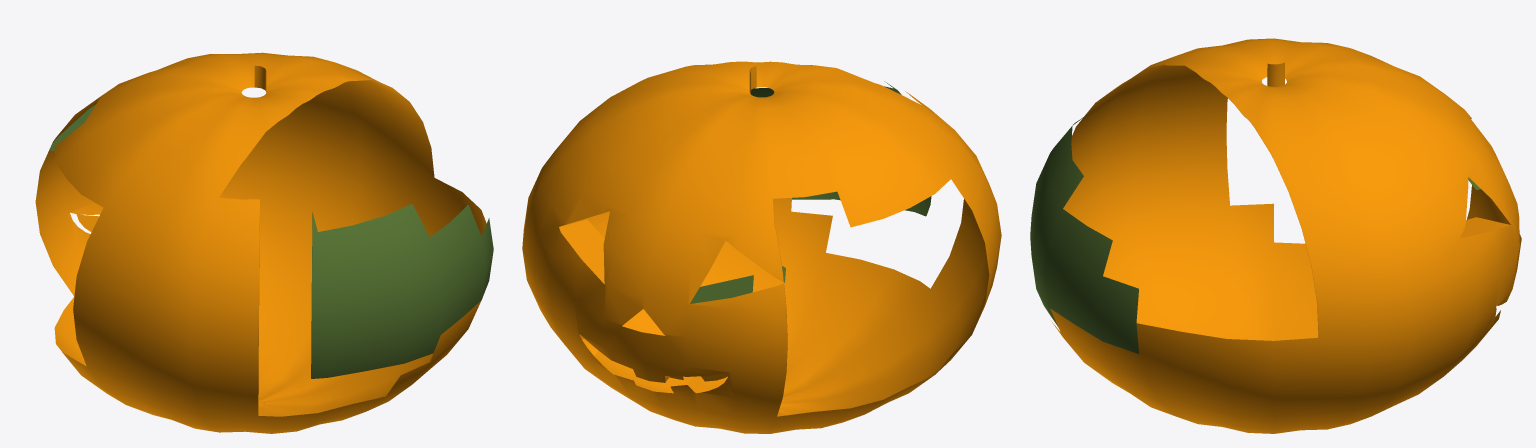
Rendered from Pumpkin_Halloween_Skin.fbx.
The picture shows the model from 3 angles, left to right: view 1: azimuth 30°, elevation 25°; view 2: azimuth 150°, elevation 25°; view 3: azimuth 270°, elevation 25°; orthographic projection. The views are drawn at different scales.
Parts seen in each view (by area): view 1: Pumpkin; view 2: Pumpkin; view 3: Pumpkin.
Part boxes in pixels (x1=…): Pumpkin: x1=35, y1=52, x2=493, y2=433; Pumpkin: x1=522, y1=61, x2=1001, y2=433; Pumpkin: x1=1030, y1=38, x2=1521, y2=433.
Bounding box in the file's own units: 140 × 124 × 139.
